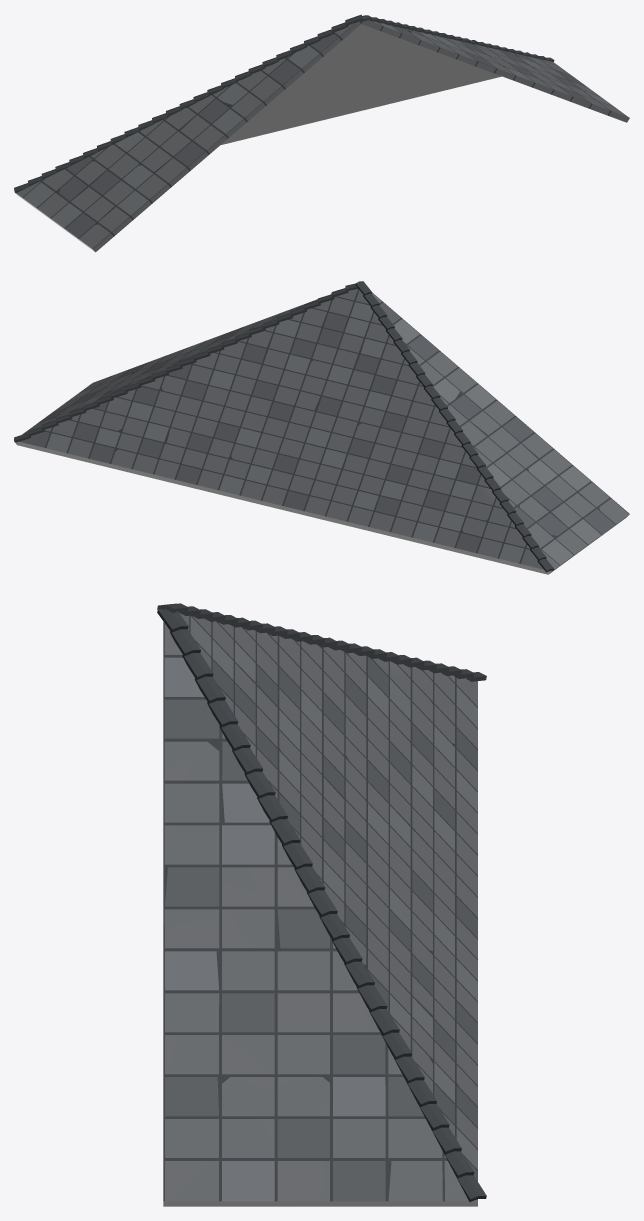
The model's file is Roof4_C8_02.fbx.
The picture shows the model from 3 angles, top to bottom: view 1: azimuth 30°, elevation 25°; view 2: azimuth 150°, elevation 25°; view 3: azimuth 270°, elevation 25°; orthographic projection. The views are drawn at different scales.
Visible parts, largest first — view 1: Roof4_C8_02; view 2: Roof4_C8_02; view 3: Roof4_C8_02.
Boxes of the visible parts, x1,y1,x2,y2 form: Roof4_C8_02: [14, 14, 629, 252]; Roof4_C8_02: [14, 281, 629, 574]; Roof4_C8_02: [157, 603, 486, 1206].
Bounding box in the file's own units: 11.1 × 3.37 × 2.94.
